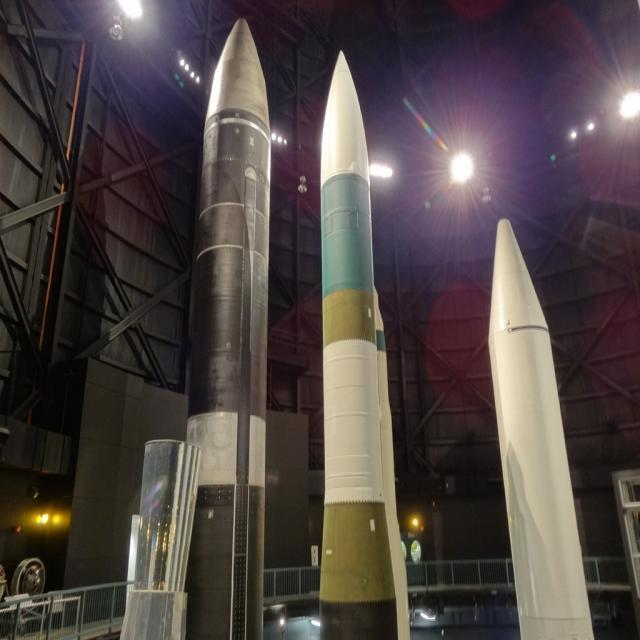missile: (125, 5, 275, 640), (306, 30, 408, 640), (480, 211, 603, 640)
